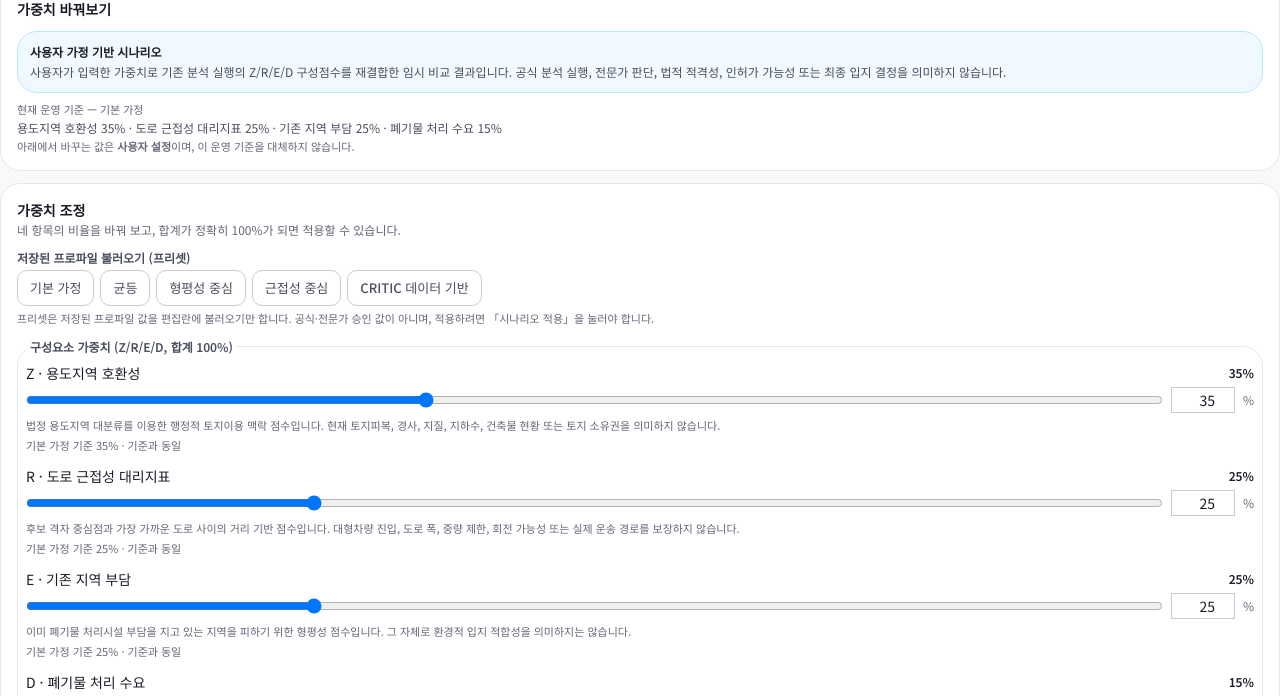
SuitabilityScenarioLab › disables Apply unless the total is exactly 100 and enables it at 100
The width and height of the screenshot is (1280, 696).
Replace the text in the number field named "Z · 용도지역 호환성 가중치 퍼센트 입력" with "40" at point(1203, 400), box x1=1171 y1=386 x2=1235 y2=412
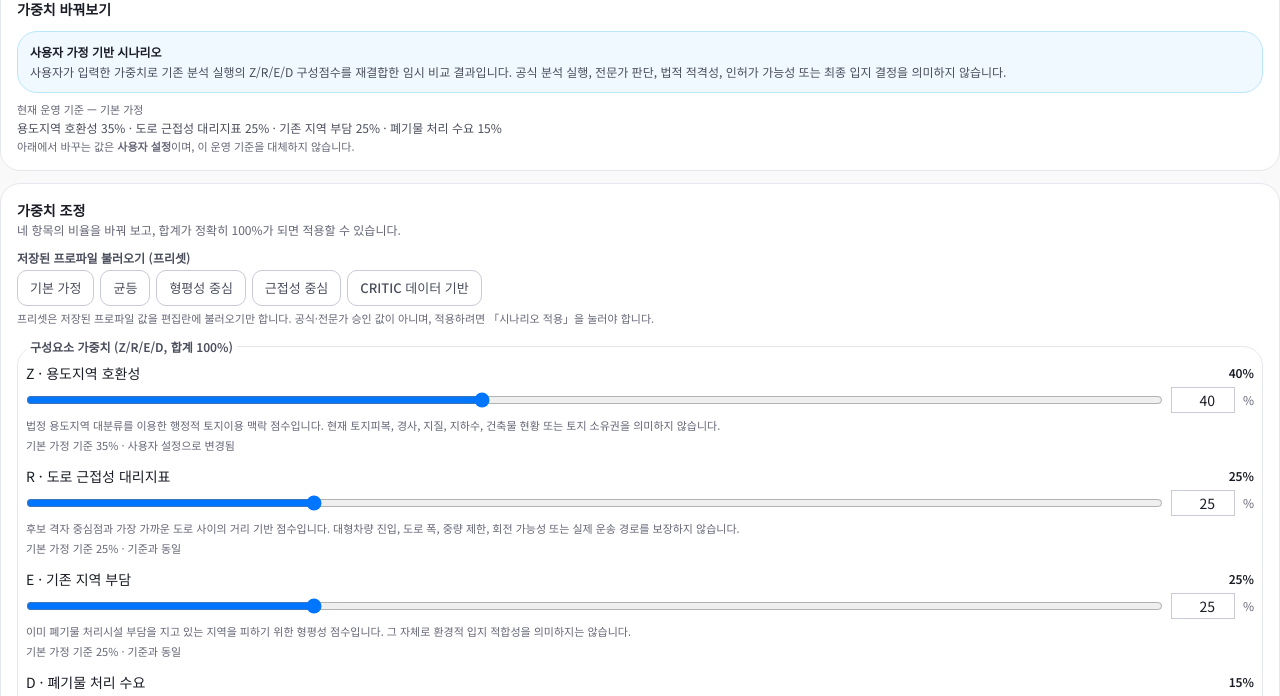
Replace the text in the number field named "Z · 용도지역 호환성 가중치 퍼센트 입력" with "35" at point(1203, 400), box x1=1171 y1=386 x2=1235 y2=412
(page scrolled)
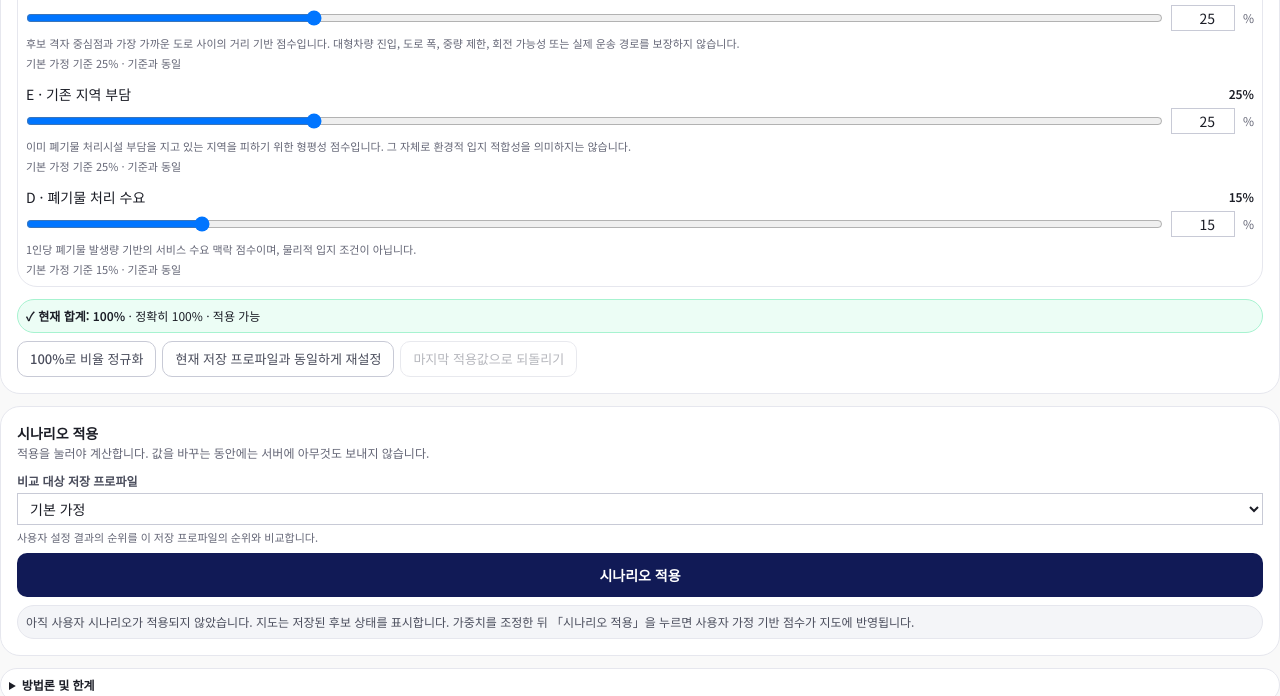
Now the button with test id "scenario-apply" is enabled, box x1=17 y1=553 x2=1263 y2=597
